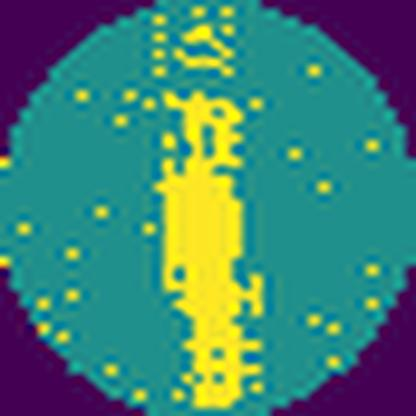Loc: (160, 87, 266, 407)
